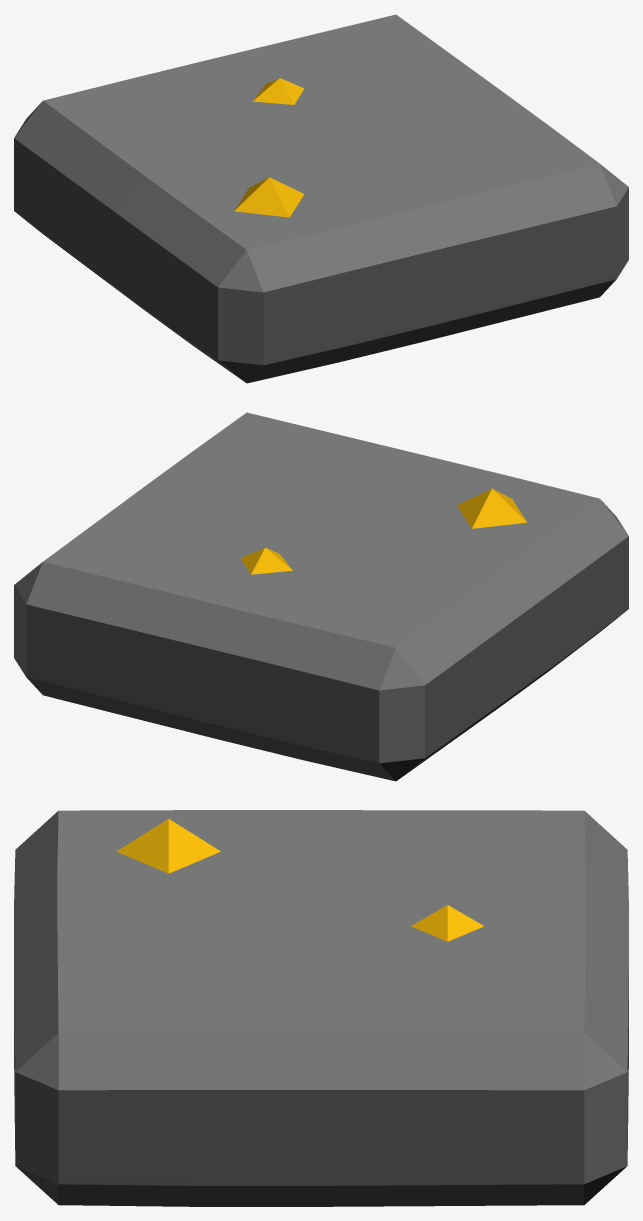
The model's file is m_kub_ore_floorPlate.FBX.
The picture shows the model from 3 angles, top to bottom: view 1: azimuth 30°, elevation 25°; view 2: azimuth 150°, elevation 25°; view 3: azimuth 270°, elevation 25°; orthographic projection. The views are drawn at different scales.
Parts seen in each view (by area): view 1: m_kub_ore_floorPlate; view 2: m_kub_ore_floorPlate; view 3: m_kub_ore_floorPlate.
Part boxes in pixels (bbox=[...]): m_kub_ore_floorPlate: bbox=[14, 14, 628, 383]; m_kub_ore_floorPlate: bbox=[14, 412, 628, 781]; m_kub_ore_floorPlate: bbox=[14, 810, 628, 1206].
Size of the model in its own units: 2.18 by 0.8171 by 2.18.
